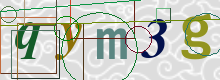3: (140, 18, 166, 58)
g: (181, 15, 210, 59)
m: (96, 28, 126, 60)
q: (14, 22, 39, 59)
y: (54, 22, 81, 59)
